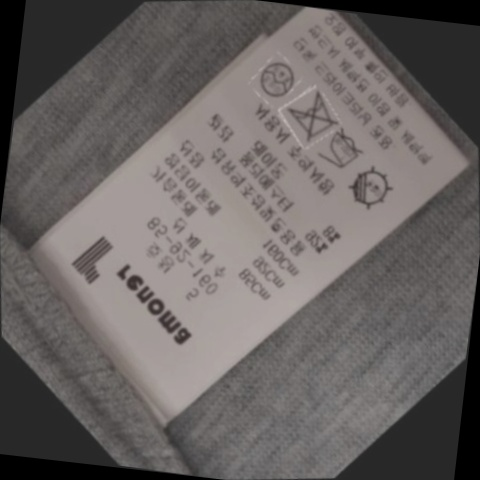DN_wash: (277, 87, 342, 146)
dry_clean_petrol_only: (250, 52, 301, 103)
iron_low: (313, 125, 371, 178)
line_dry_in_shade: (336, 161, 398, 216)
